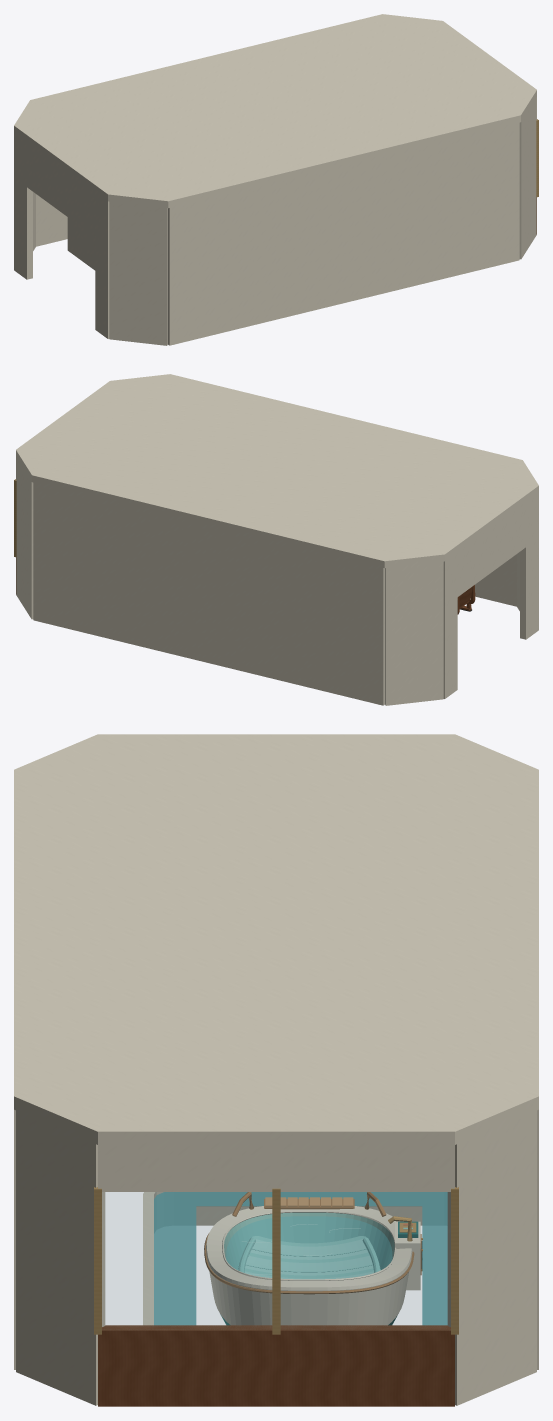
Rendered from D04_PORT_FORWARD_HOME_946_r001.glb.
3 renders of one model, top to bottom at view 1: azimuth 30°, elevation 25°; view 2: azimuth 150°, elevation 25°; view 3: azimuth 270°, elevation 25°, orthographic. The views are drawn at different scales.
Visible parts, largest first — view 1: D04H946_Roof, D04H946_Shell_3, D04H946_Shell_2, D04H946_EntryHeader, D04H946_Shell_4, D04H946_EntryWall_0, D04H946_EntryWall_1, D04H946_Shell_7, D04H946_BathDogleg; view 2: D04H946_Roof, D04H946_Shell_7, D04H946_Shell_0, D04H946_EntryHeader, D04H946_Shell_6, D04H946_EntryWall_1, D04H946_EntryWall_0, D04H946_Shell_3; view 3: D04H946_Roof, D04H946_GardenGlass, D04H946_GardenDado, D04H946_Shell_4, D04H946_Shell_6, D04H946_GardenHead, D04H946_ReservedAquaticRest__Hollow continuous basin shell w, D04H946_Water_0, D04H946_ReservedAquaticRest__WaterSurface_VisualOnly, D04H946_ReservedAquaticRest__Contoured broad immersed rest s, D04H946_AquaticBasinRim, D04H946_WindowMullion_1 (+5 smaller).
Part boxes in pixels (x1,y1,x2,y2): D04H946_Roof: (14, 14, 536, 208); D04H946_Shell_3: (168, 122, 519, 345); D04H946_Shell_2: (109, 201, 167, 345); D04H946_EntryHeader: (27, 142, 95, 236); D04H946_Shell_4: (519, 98, 536, 259); D04H946_EntryWall_0: (14, 133, 32, 279); D04H946_EntryWall_1: (95, 192, 109, 338); D04H946_Shell_7: (36, 194, 67, 246); D04H946_BathDogleg: (67, 217, 95, 270); D04H946_Roof: (16, 374, 538, 568); D04H946_Shell_7: (33, 482, 384, 705); D04H946_Shell_0: (385, 561, 443, 705); D04H946_EntryHeader: (457, 502, 525, 596); D04H946_Shell_6: (16, 458, 33, 619); D04H946_EntryWall_1: (520, 493, 538, 639); D04H946_EntryWall_0: (443, 552, 457, 698); D04H946_Shell_3: (475, 554, 516, 606); D04H946_Roof: (14, 734, 538, 1144); D04H946_GardenGlass: (102, 1192, 450, 1329); D04H946_GardenDado: (98, 1325, 454, 1406); D04H946_Shell_4: (16, 1110, 105, 1405); D04H946_Shell_6: (447, 1110, 536, 1405); D04H946_GardenHead: (98, 1145, 454, 1191); D04H946_ReservedAquaticRest__Hollow continuous basin shell w: (206, 1206, 412, 1325); D04H946_Water_0: (154, 1192, 447, 1325); D04H946_ReservedAquaticRest__WaterSurface_VisualOnly: (226, 1216, 392, 1278); D04H946_ReservedAquaticRest__Contoured broad immersed rest s: (238, 1236, 373, 1279); D04H946_AquaticBasinRim: (143, 1192, 422, 1325); D04H946_WindowMullion_1: (272, 1188, 280, 1334).
Bounding box in the file's own units: 12.93 × 4.16 × 7.2.
39 materials, 20 textured.
